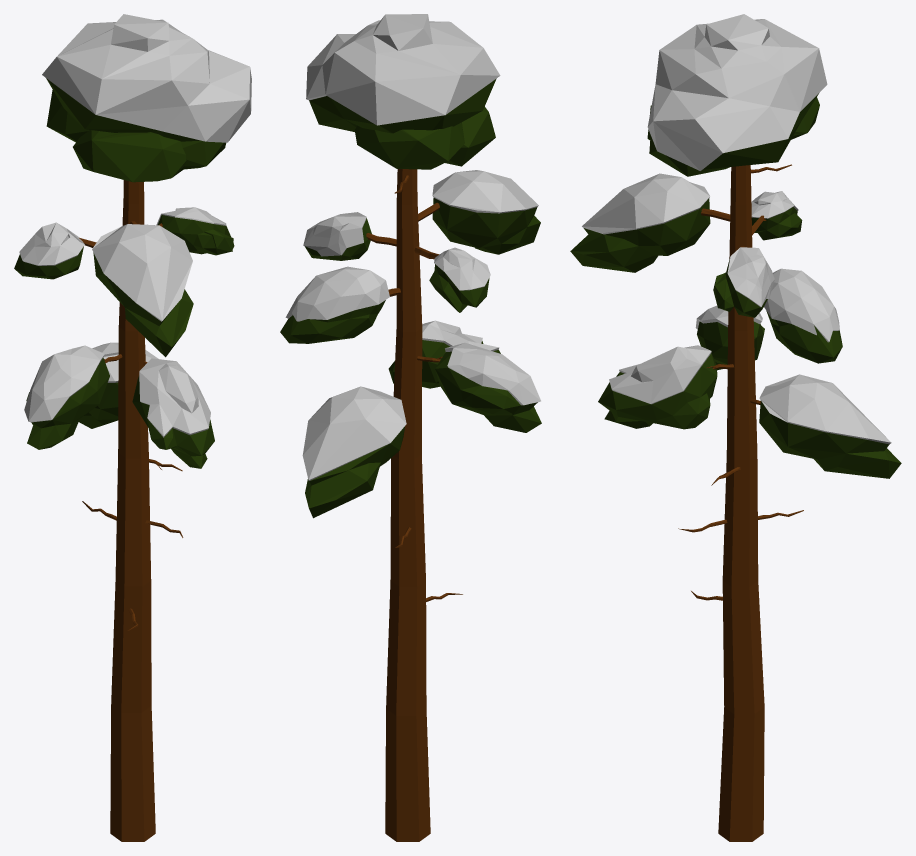
The model's file is tree_small.fbx.
3 renders of one model, left to right at view 1: azimuth 30°, elevation 25°; view 2: azimuth 150°, elevation 25°; view 3: azimuth 270°, elevation 25°, orthographic.
Parts seen in each view (by area): view 1: puu_latva_LOD0, puu_runko_LOD0; view 2: puu_latva_LOD0, puu_runko_LOD0; view 3: puu_latva_LOD0, puu_runko_LOD0.
Boxes of the visible parts, <box> form: puu_latva_LOD0: <box>14,14,251,468</box>; puu_runko_LOD0: <box>79,180,183,841</box>; puu_latva_LOD0: <box>280,14,541,518</box>; puu_runko_LOD0: <box>366,169,462,841</box>; puu_latva_LOD0: <box>570,14,901,478</box>; puu_runko_LOD0: <box>678,164,803,841</box>.
Size of what is drawn, in the model's own units: 498 by 1682 by 623.
